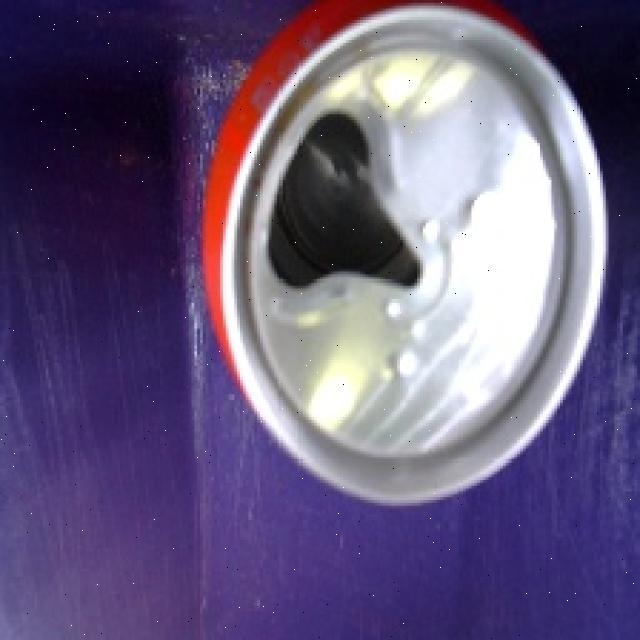metal: (176, 0, 624, 516)
